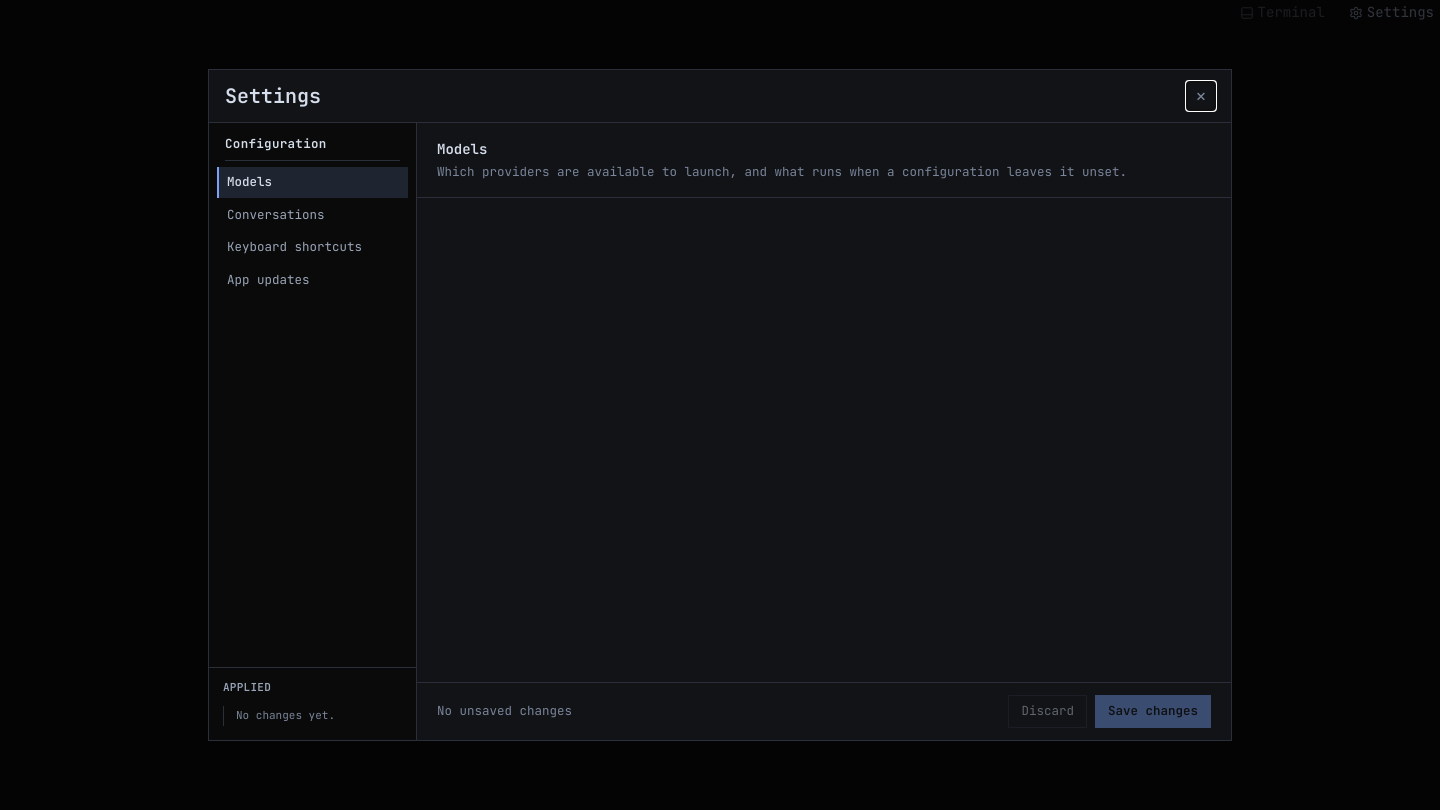
overhaul acceptance - app updates › [overhaul-208] keeps a failed launch check quiet until App updates opens
Click the tab "App updates": point(312, 280) [217,265,408,296]
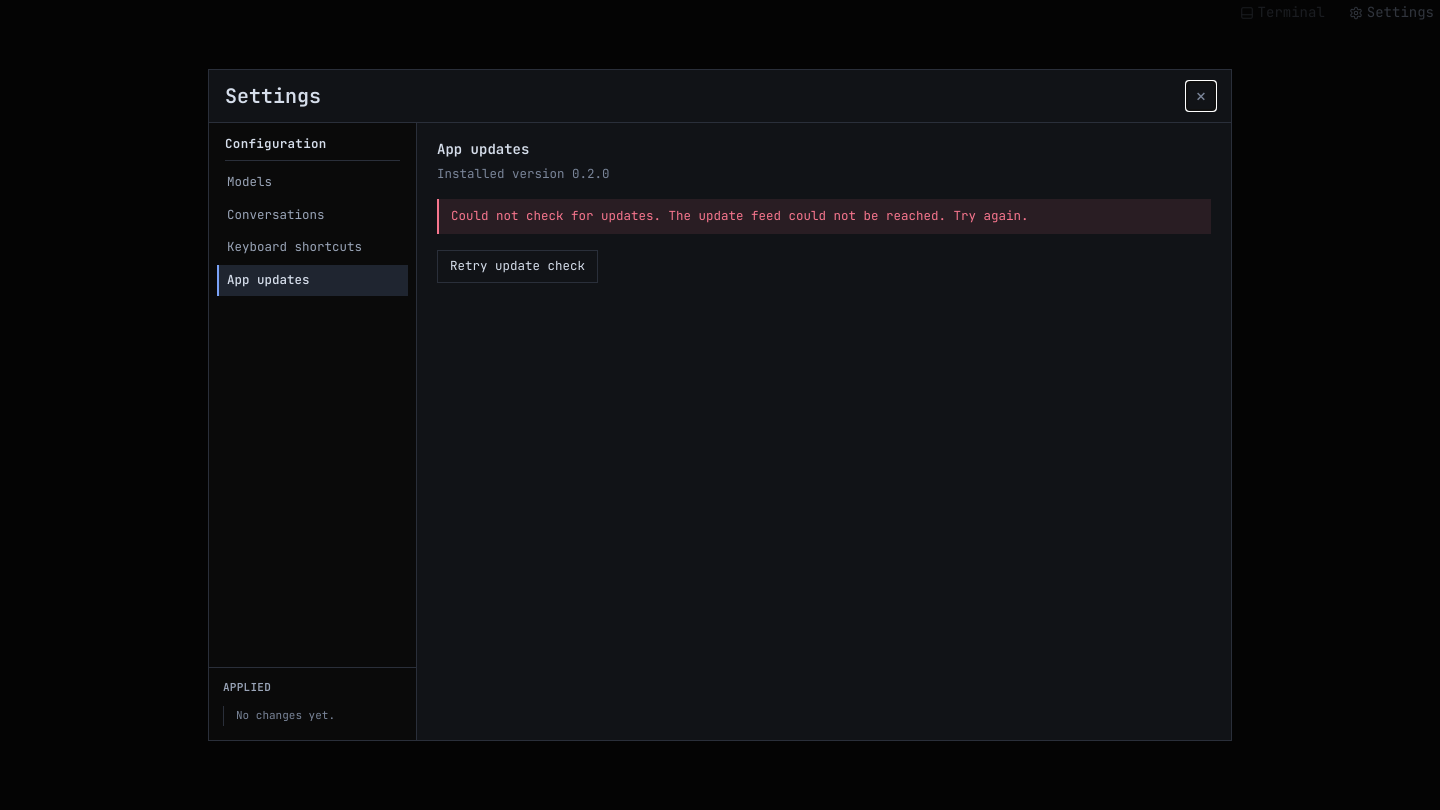
Result: the message reads "Could not check for updates. The update feed could not be reached. Try again." at [451,207,1028,224]
